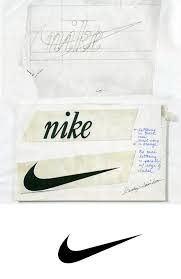nike: (30, 14, 152, 74), (16, 146, 129, 200), (48, 223, 146, 272)
